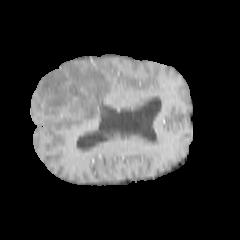glioma: (39, 63, 113, 121)
